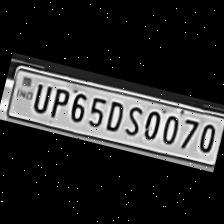0: (192, 118, 219, 154), (156, 109, 182, 145), (139, 105, 164, 141)
5: (83, 92, 108, 128)
6: (64, 86, 90, 124)
7: (174, 113, 199, 150)
D: (100, 96, 127, 134)
P: (43, 82, 69, 119)
S: (119, 100, 146, 138)
U: (26, 79, 52, 115)
